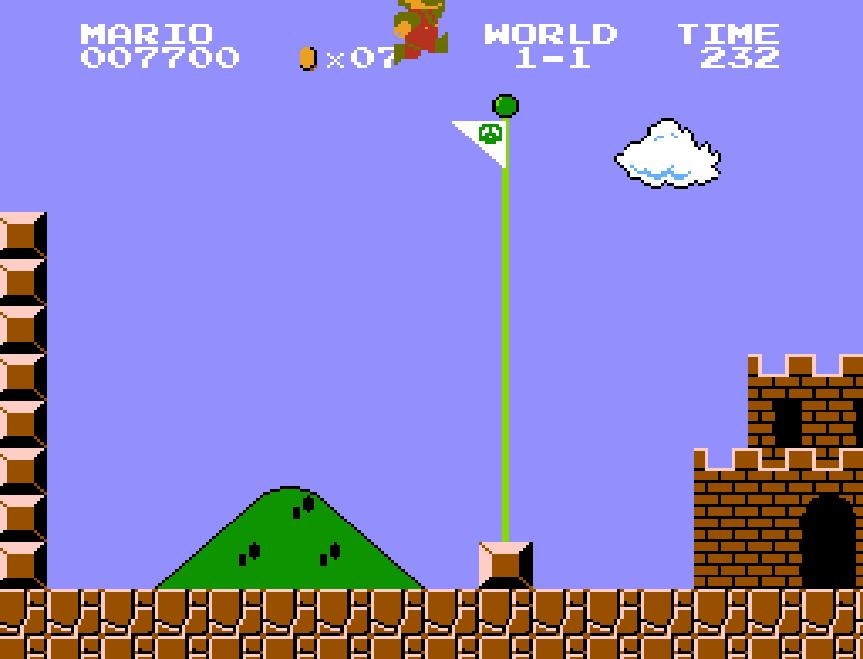big_mario: (392, 0, 450, 65)
